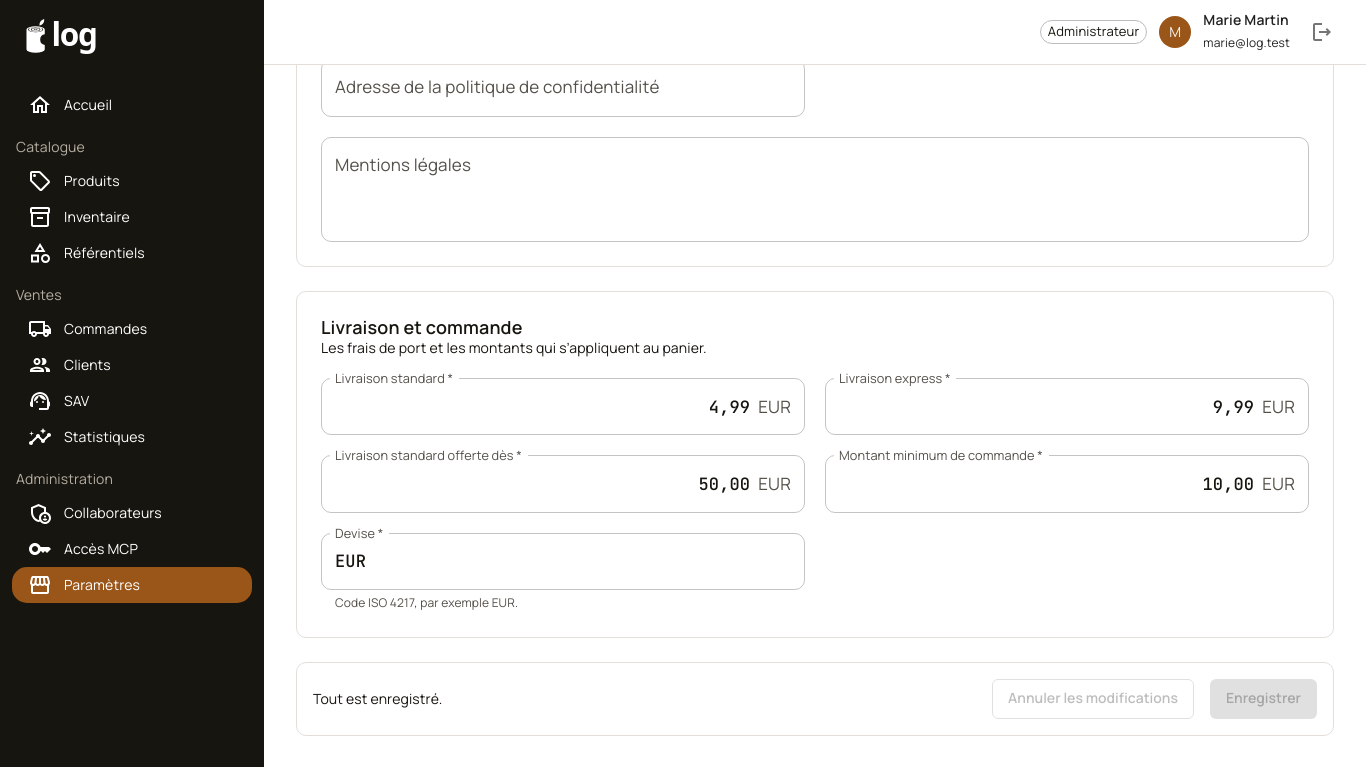
Test: the shop settings (U08) › shows amounts the French way, and saves only what changed, as the API expects it
(page scrolled)
Expected: the button "Enregistrer" is disabled, left=1210, top=679, right=1317, bottom=719
Replace the text in the field labelled "Livraison standard" with "5,9" at [536, 406], box left=321, top=378, right=750, bottom=435
(page scrolled)
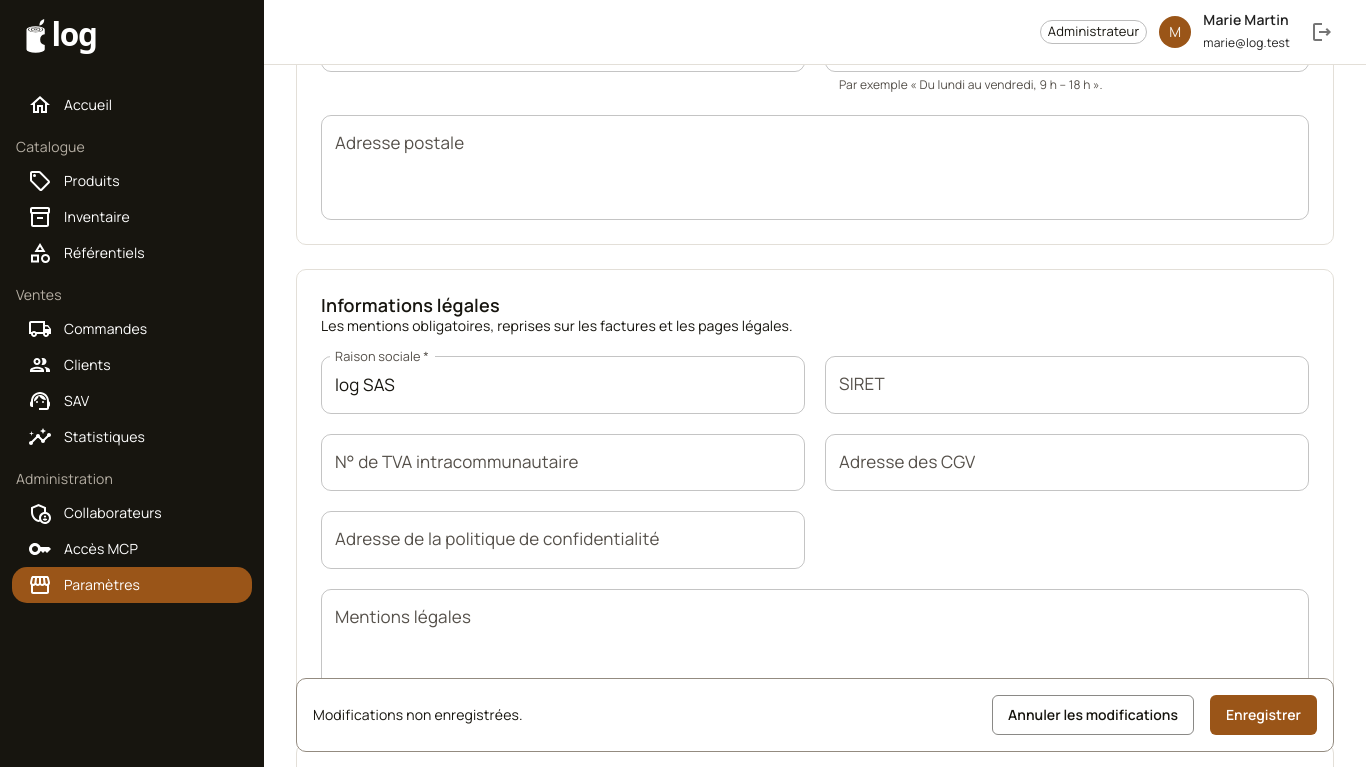
Type "732 829 320 00074" into the field labelled "SIRET" at [1067, 385], box left=825, top=356, right=1309, bottom=414
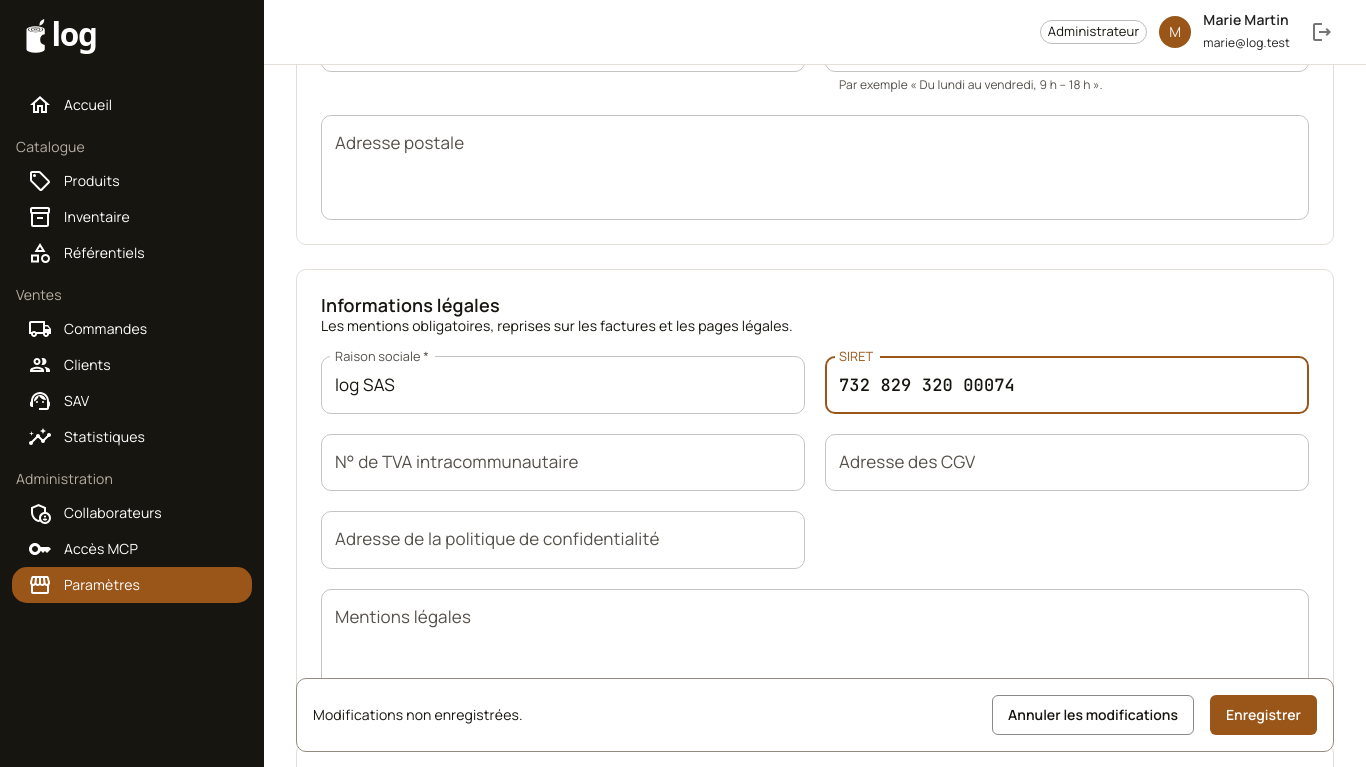
Expected: the text "Modifications non enregistrées." is shown, left=313, top=705, right=523, bottom=724
Click the button "Enregistrer" at [1264, 715], box left=1210, top=695, right=1317, bottom=735
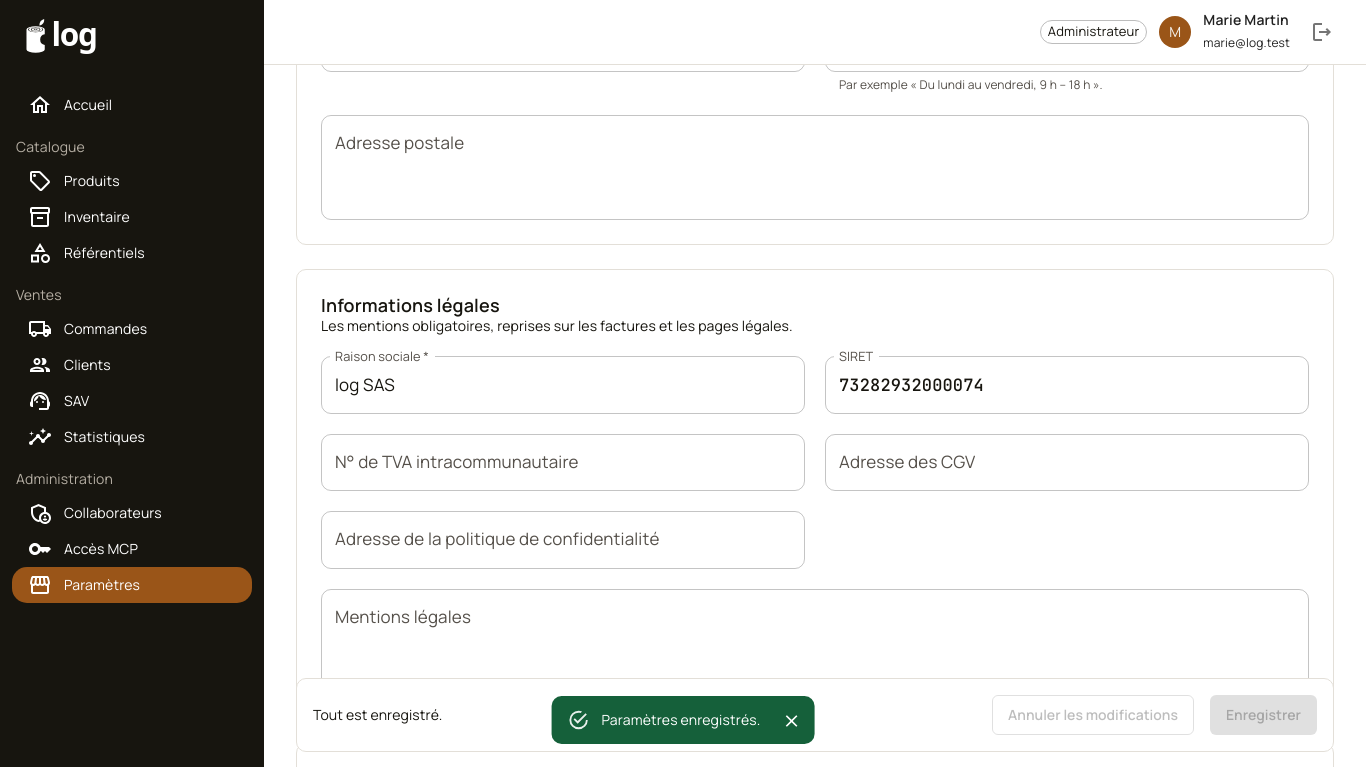
Expected: the text "Paramètres enregistrés." is shown, left=602, top=710, right=760, bottom=729
Expected: the text "Tout est enregistré." is shown, left=313, top=705, right=443, bottom=724
